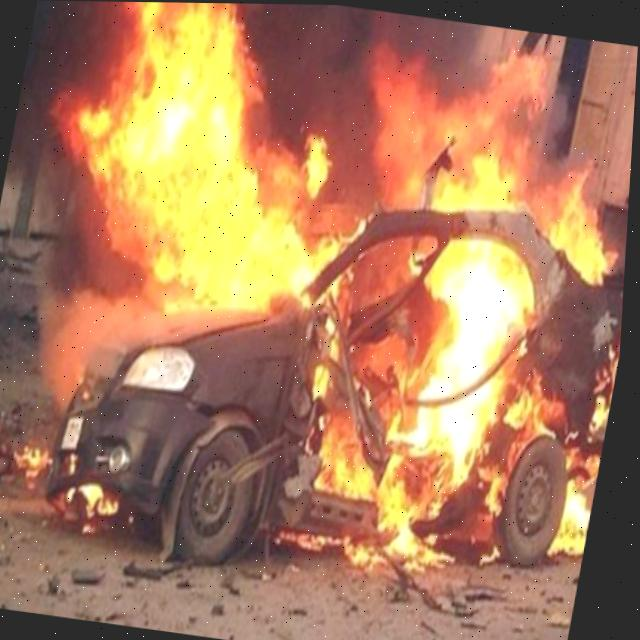fire: (95, 2, 347, 304), (396, 230, 540, 468), (335, 455, 426, 536), (557, 183, 613, 287), (558, 491, 594, 552), (385, 522, 414, 558), (339, 468, 365, 497), (365, 497, 385, 522)
smoke: (261, 3, 638, 176), (44, 294, 192, 411), (422, 149, 526, 211)
